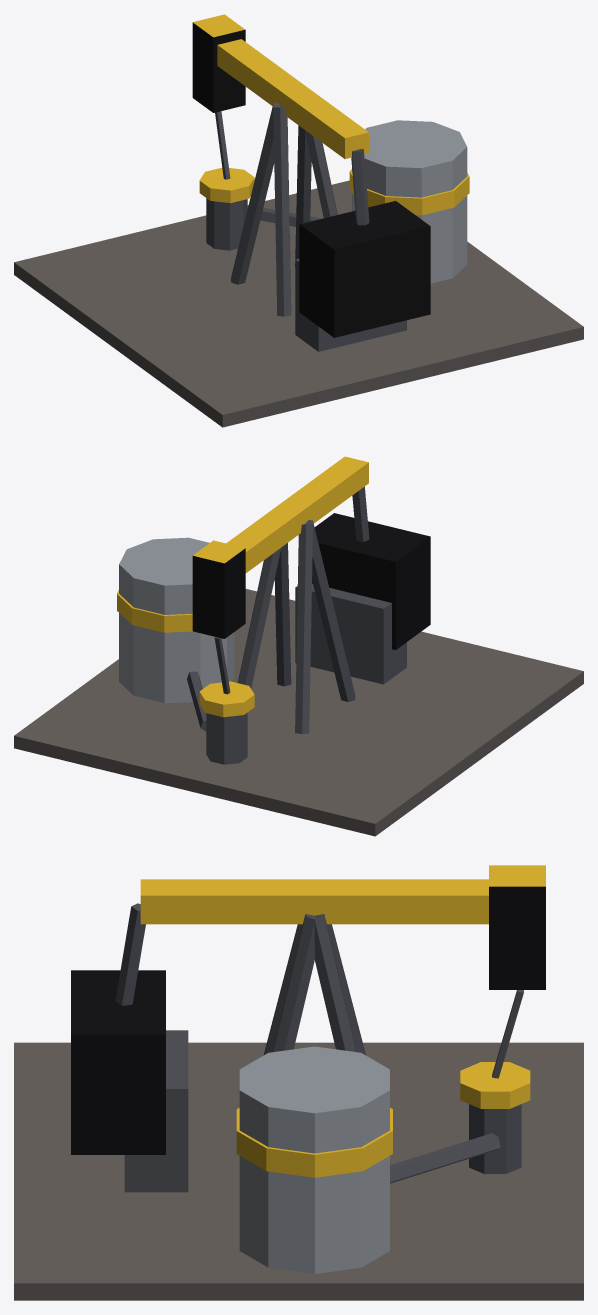
File: oil_well.glb
3 renders of one model, top to bottom at view 1: azimuth 30°, elevation 25°; view 2: azimuth 150°, elevation 25°; view 3: azimuth 270°, elevation 25°, orthographic. The views are drawn at different scales.
Parts seen in each view (by area): view 1: oil_well; view 2: oil_well; view 3: oil_well.
Part boxes in pixels (x1,y1,x2,y2): oil_well: [14, 14, 583, 427]; oil_well: [14, 456, 583, 836]; oil_well: [14, 865, 583, 1300].
Bounding box in the file's own units: 1.8 × 1.06 × 1.8.
